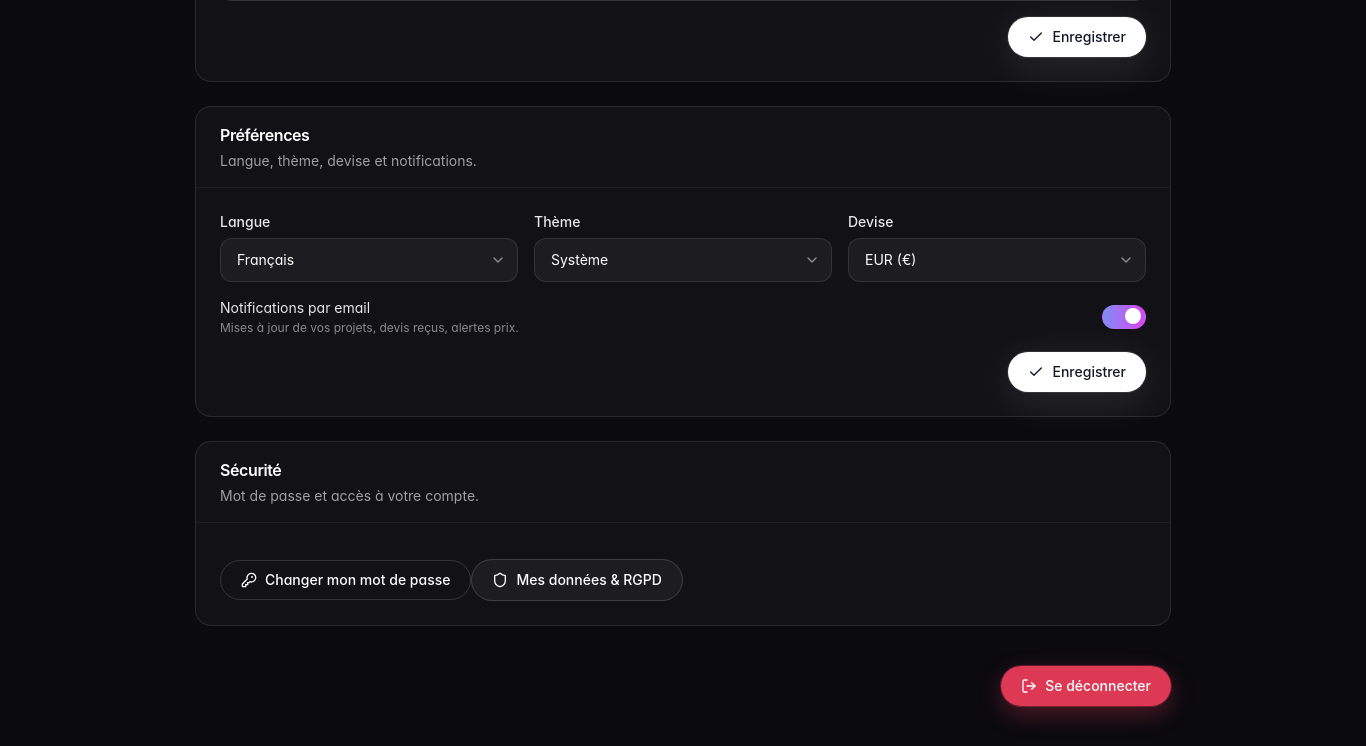
ProfilePage › Password Change Dialog › should open the password dialog when the button is clicked
(page scrolled)
Click the button "Changer mon mot de passe". click: [346, 580]
box: [220, 560, 472, 600]
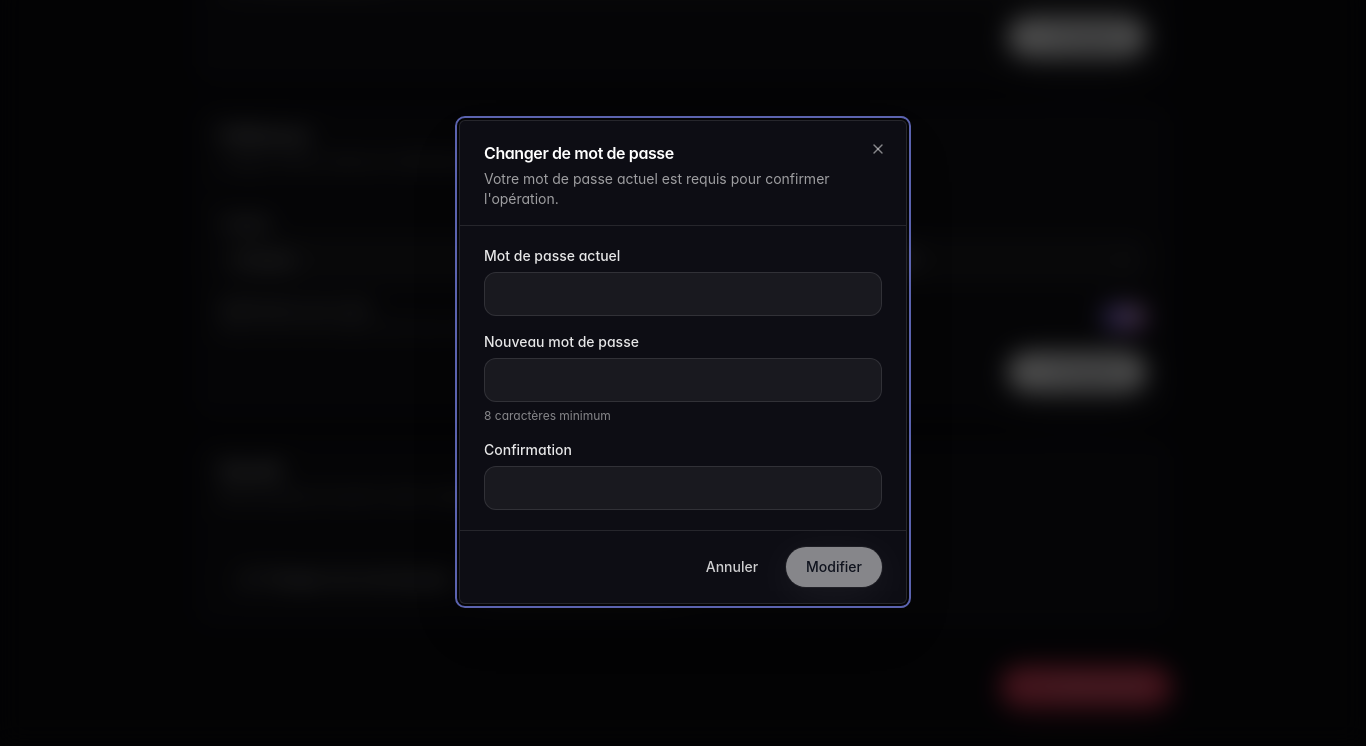
expect the dialog is shown: met, box [459, 120, 907, 604]
